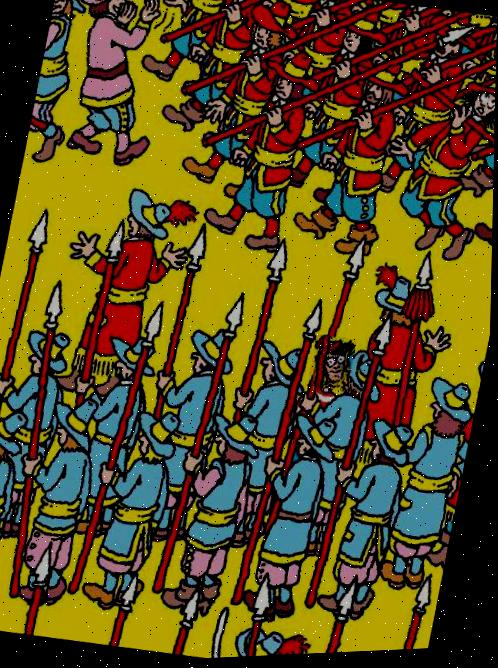waldo: (308, 336, 359, 398)
